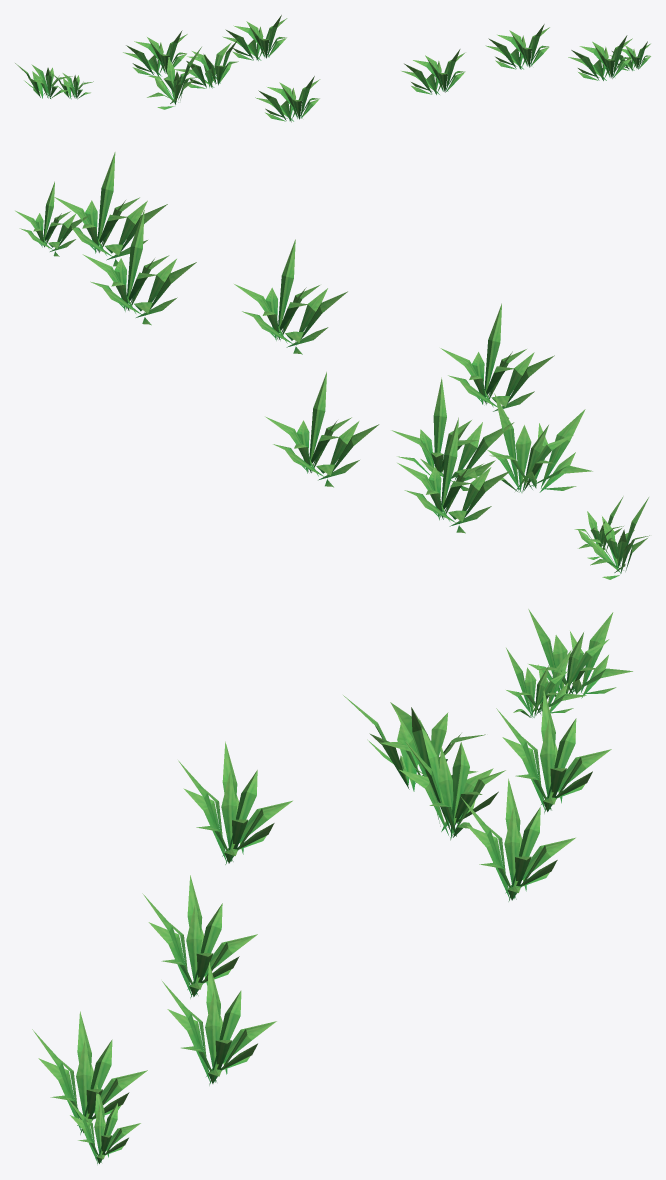
File: Area_06_36.fbx
3 views of the same model, one above another, from view 1: azimuth 30°, elevation 25°; view 2: azimuth 150°, elevation 25°; view 3: azimuth 270°, elevation 25° (orthographic). The views are drawn at different scales.
Visible parts, largest first — view 1: Area_06_36; view 2: Area_06_36; view 3: Area_06_36.
Part boxes in pixels (x1,y1,x2,y2): Area_06_36: (15, 15, 650, 122); Area_06_36: (15, 152, 649, 579); Area_06_36: (32, 609, 632, 1164).
Bounding box in the file's own units: 934 × 94.68 × 476.
